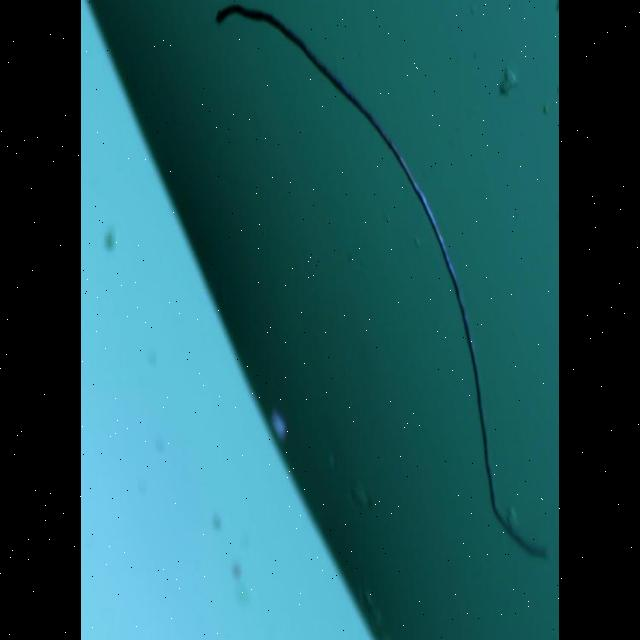Fibre: (215, 0, 550, 571)
